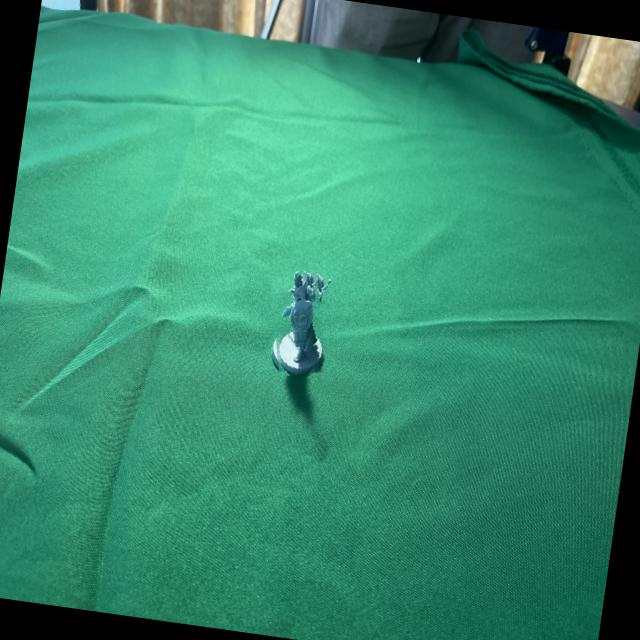isis_follower: (262, 264, 336, 379)
